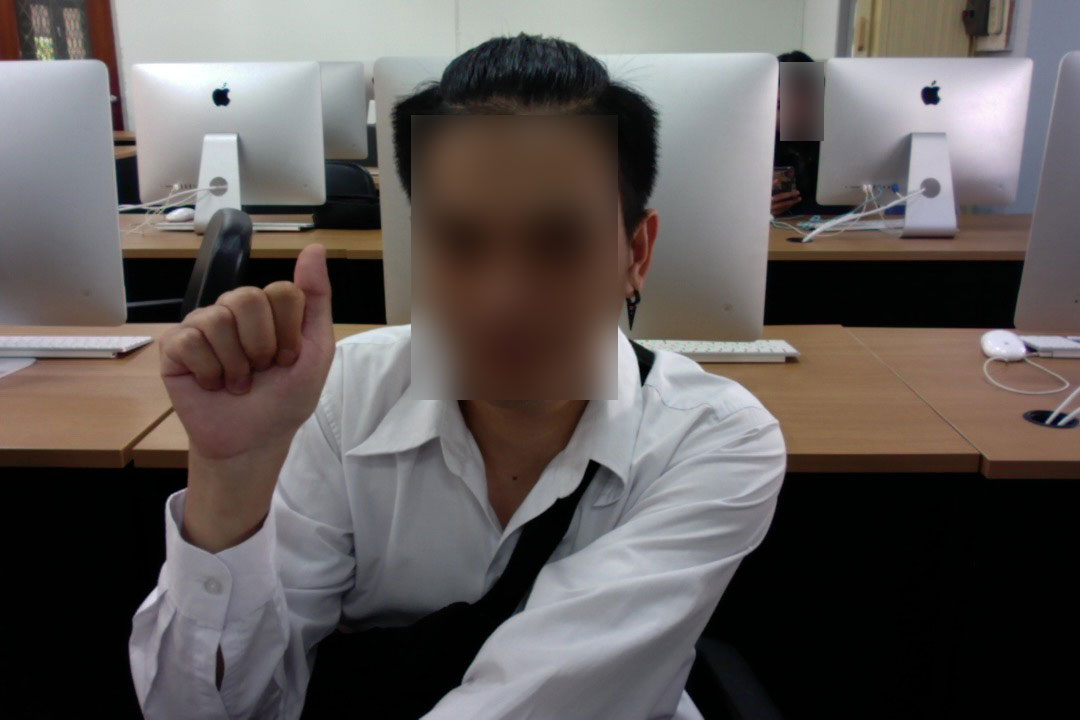or: (148, 234, 346, 479)
